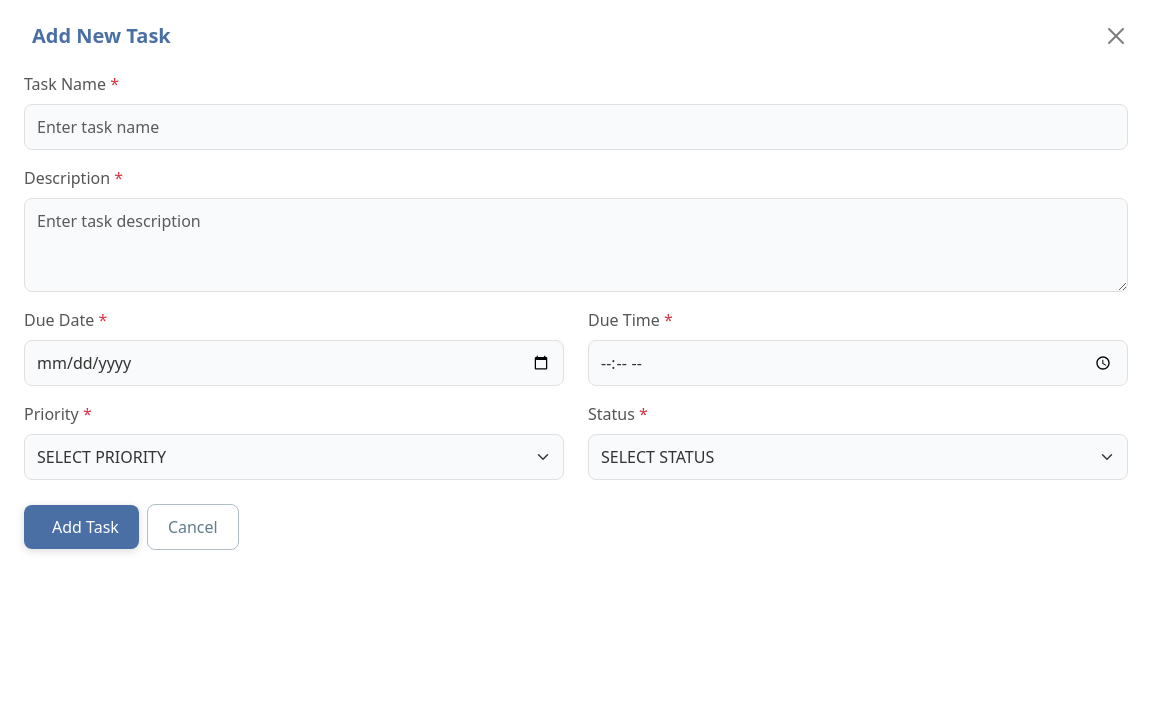
Scenario: TaskForm Component › validates form before submission
Note: Submit form without filling required fields
What coordinates should you click on to do the following:
click the button "Add Task"
I would click on:
 (81, 527)
Its box is [24,505,139,549].
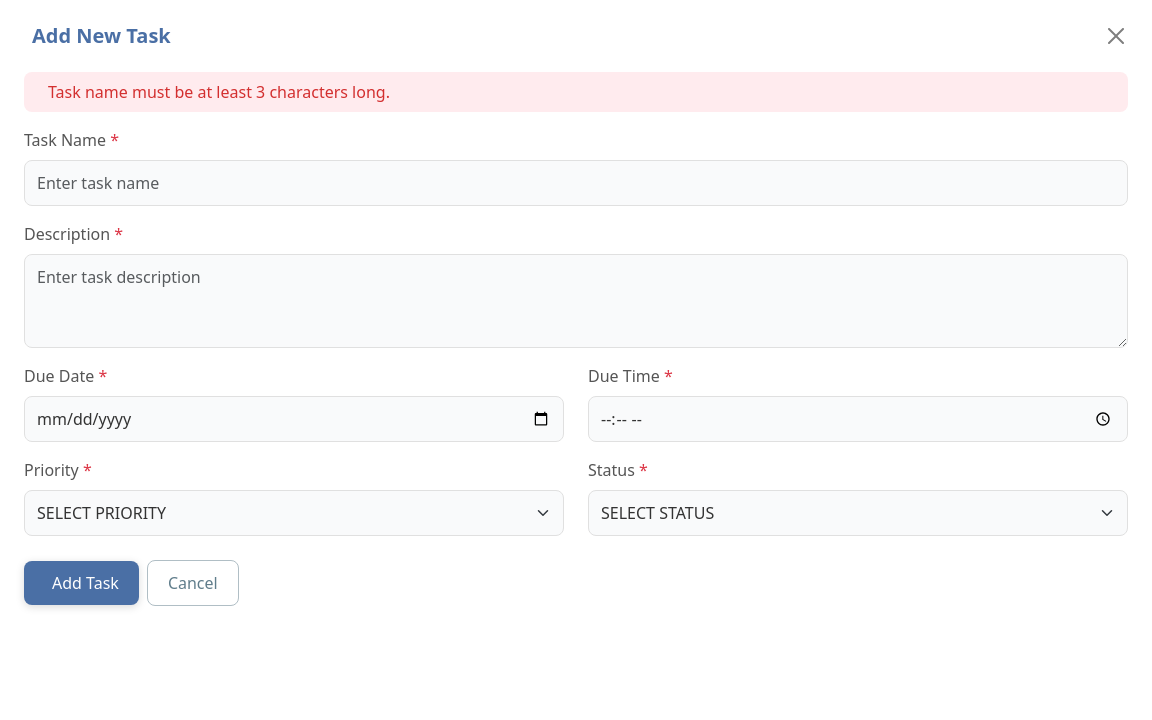
Check: the text "Task name must be at least 3 characters long." is shown, box [24,72,1128,112]
